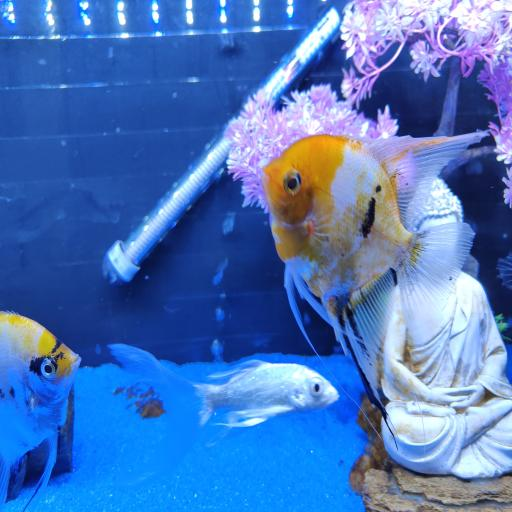Fish: (262, 132, 487, 419), (108, 344, 338, 443), (0, 312, 80, 509), (497, 253, 511, 289)
